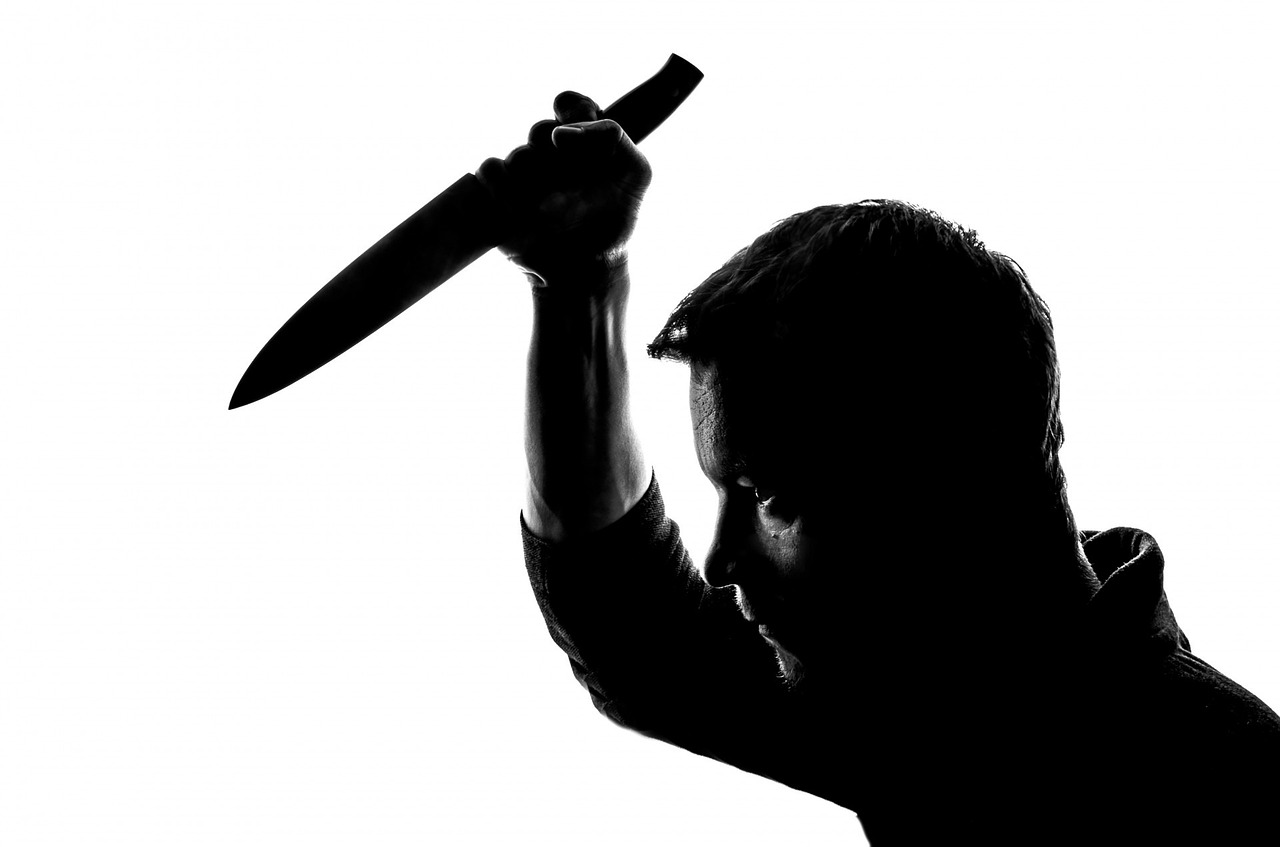knife: (216, 44, 717, 417)
